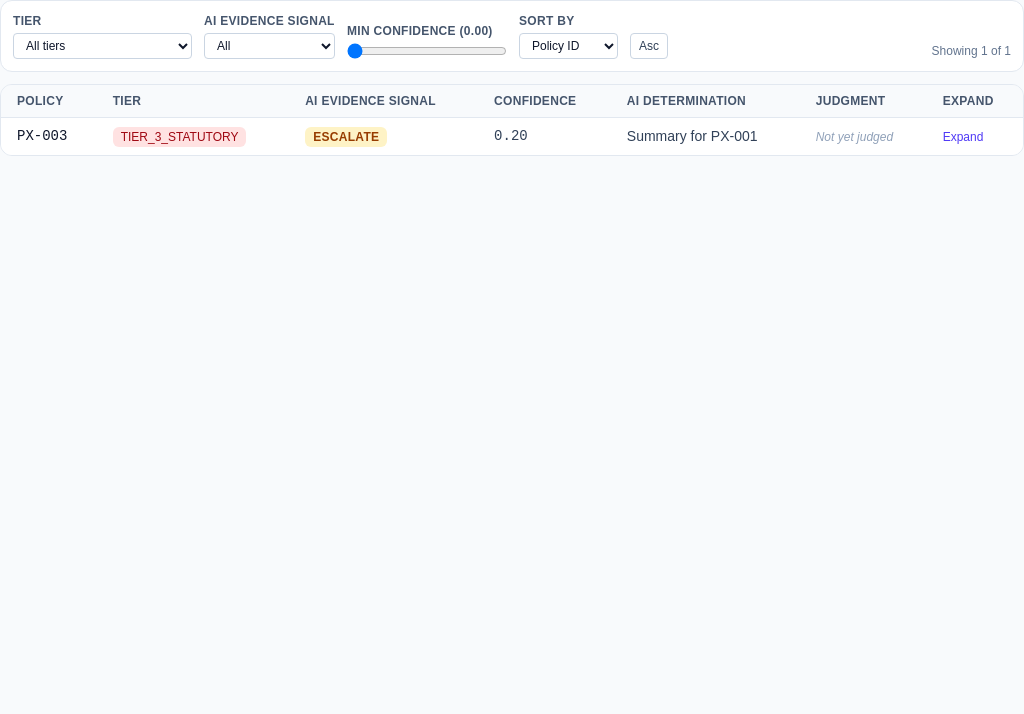
Test: PerPolicyResultsTable tier-aware verdict dropdown › TIER_3 row shows only OBSERVATION_ONLY
Expected: the row with test id "per-policy-row" is shown, left=1, top=118, right=1023, bottom=155
Click the button with test id "per-policy-expand-toggle" at point(963, 137), box left=943, top=129, right=983, bottom=145
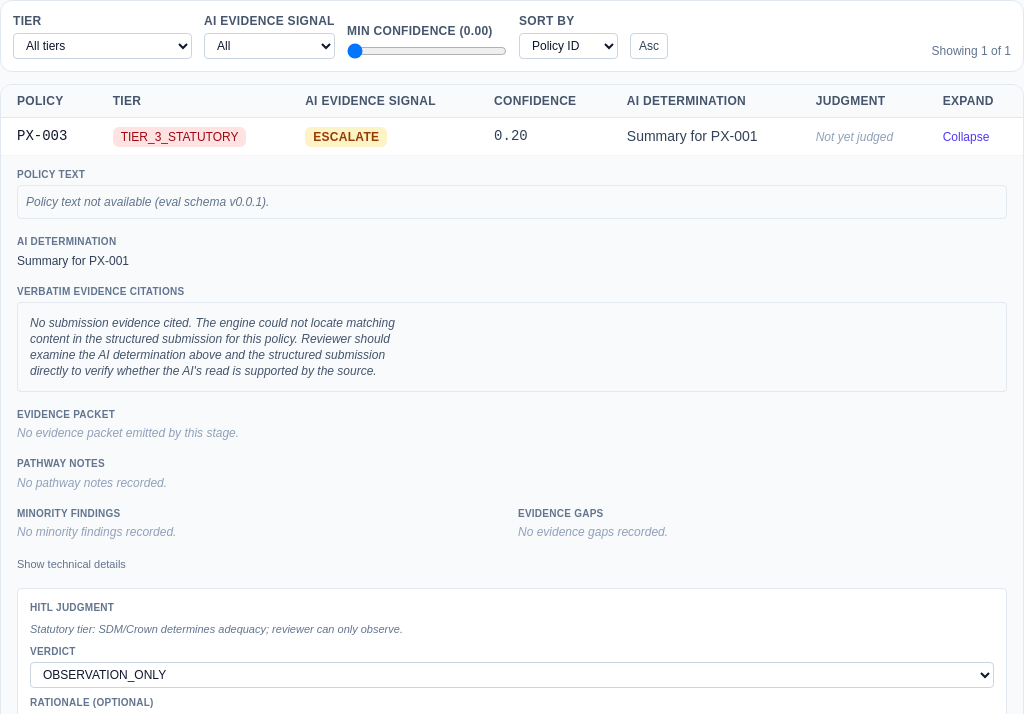
Expected: the text with test id "per-policy-tier-help" shows "SDM/Crown", left=30, top=623, right=403, bottom=635
